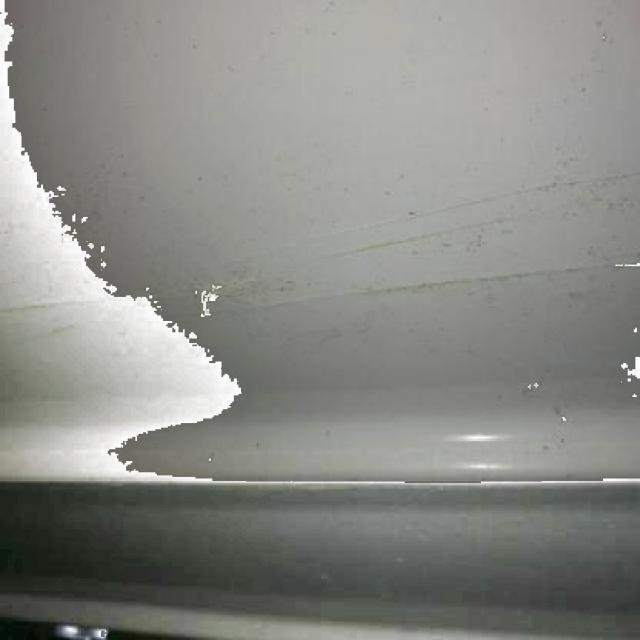crack: (355, 264, 640, 296), (336, 220, 502, 256), (3, 302, 80, 316)
